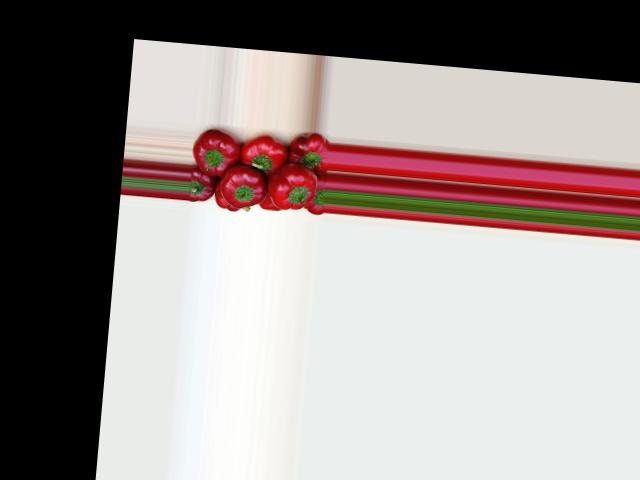bell_pepper: (258, 192, 279, 213)
